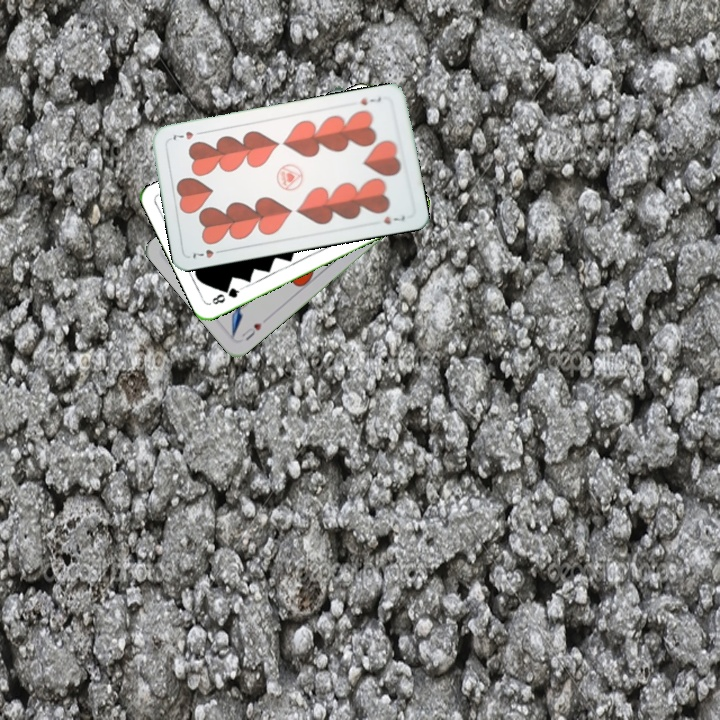G8: (208, 283, 245, 307)
H7: (188, 245, 227, 261), (356, 93, 384, 108)
HU: (238, 319, 264, 343)
